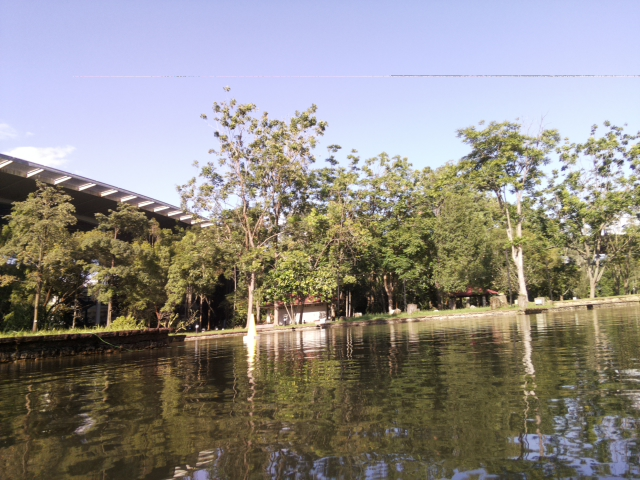checkpoint: (242, 313, 260, 341)
